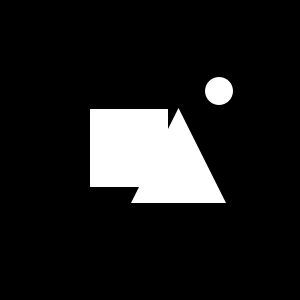circle: (90, 109, 168, 187)
rectangle: (205, 77, 233, 105)
triangle: (131, 108, 226, 203)
